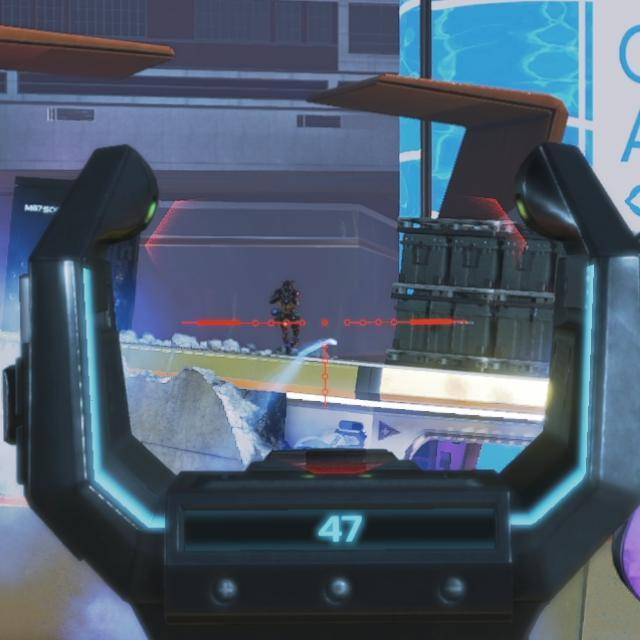avatar: (266, 277, 304, 357)
